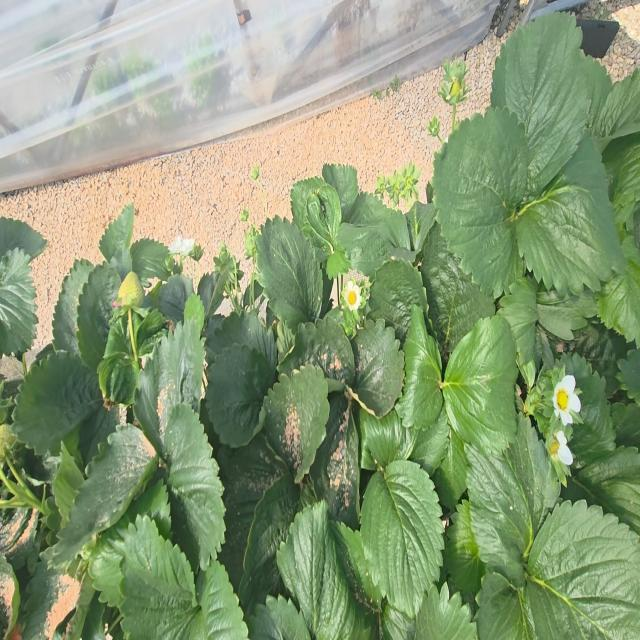Flowers: (438, 59, 469, 110), (552, 375, 581, 426), (393, 163, 420, 206), (547, 430, 573, 465), (117, 271, 143, 305), (376, 171, 399, 205), (169, 236, 194, 256), (344, 281, 361, 310)
Leaves: (491, 14, 611, 199), (433, 108, 530, 295), (516, 134, 624, 293), (527, 500, 640, 639), (49, 425, 158, 568), (467, 420, 557, 578), (360, 459, 444, 618), (279, 501, 370, 639), (214, 435, 287, 590), (88, 479, 170, 606), (163, 403, 225, 570), (443, 318, 517, 455), (421, 223, 495, 359), (121, 516, 199, 639), (12, 351, 105, 454), (134, 320, 203, 454), (239, 475, 300, 616), (263, 365, 330, 482), (257, 216, 323, 331), (206, 345, 275, 447), (311, 395, 359, 526), (330, 521, 382, 637), (573, 446, 640, 535), (395, 306, 443, 429), (564, 354, 615, 469), (20, 560, 94, 639), (279, 316, 355, 385), (352, 319, 404, 417), (369, 260, 428, 341), (77, 263, 121, 370), (598, 236, 640, 348), (564, 322, 627, 395), (196, 559, 248, 639), (475, 570, 535, 639), (443, 500, 486, 596), (209, 309, 277, 369), (0, 248, 37, 357), (52, 260, 94, 354), (496, 281, 538, 365), (591, 68, 640, 139), (416, 583, 477, 639), (361, 409, 417, 468), (537, 290, 597, 340), (338, 222, 393, 276), (290, 176, 329, 251), (603, 132, 640, 206), (249, 596, 310, 639), (410, 408, 449, 475), (435, 427, 467, 508), (78, 402, 119, 465), (53, 443, 84, 526), (306, 183, 342, 251), (0, 511, 37, 569), (322, 164, 358, 221), (99, 204, 134, 261), (0, 216, 46, 258), (0, 553, 20, 639), (131, 238, 170, 280), (158, 276, 193, 322), (405, 201, 436, 249), (344, 192, 387, 226), (617, 349, 640, 407), (382, 600, 415, 639), (613, 403, 640, 450), (382, 206, 410, 249), (23, 450, 56, 480), (198, 272, 217, 313), (326, 246, 350, 278)
